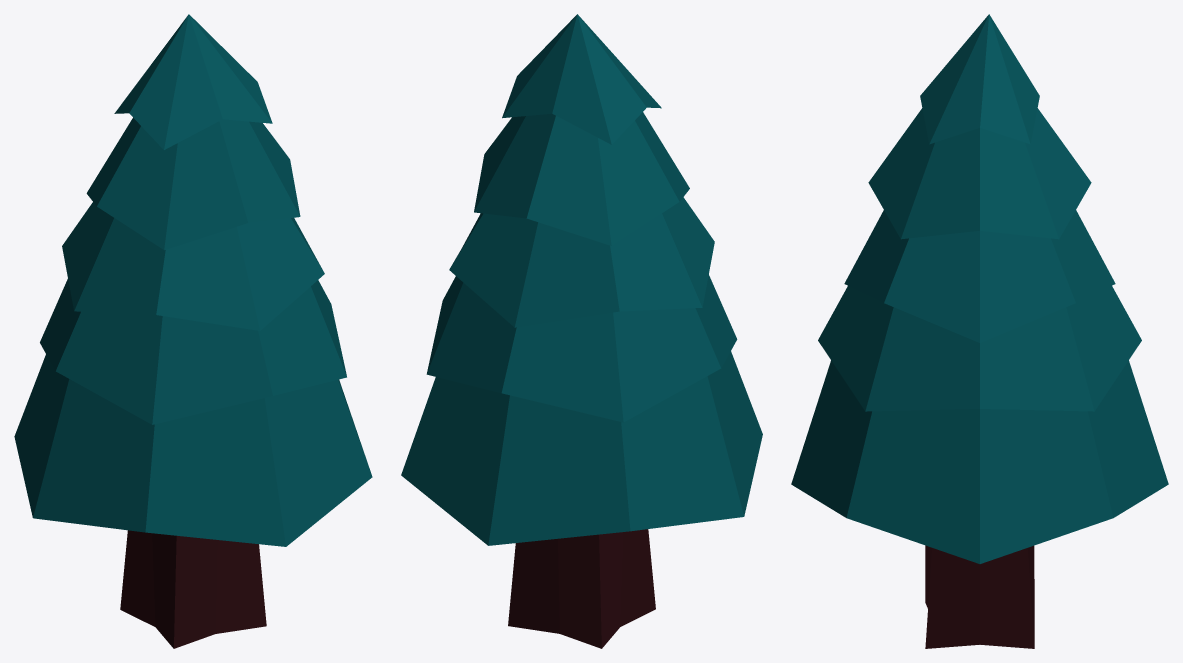
File: tree2.fbx
3 renders of one model, left to right at view 1: azimuth 30°, elevation 25°; view 2: azimuth 150°, elevation 25°; view 3: azimuth 270°, elevation 25°, orthographic.
Parts seen in each view (by area): view 1: tree; view 2: tree; view 3: tree.
Part boxes in pixels (x1,y1,x2,y2): tree: (14,14,372,648); tree: (401,14,762,648); tree: (791,14,1168,648).
Size of the model in its own units: 77.83 by 139 by 77.83.
